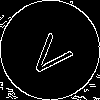V: (25, 25, 81, 82)
